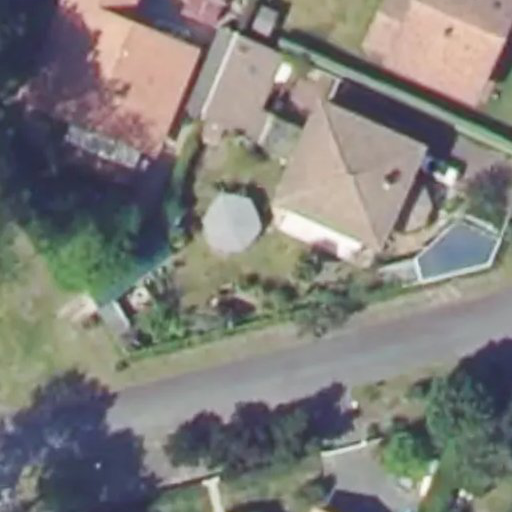pool: (195, 228, 311, 254)
